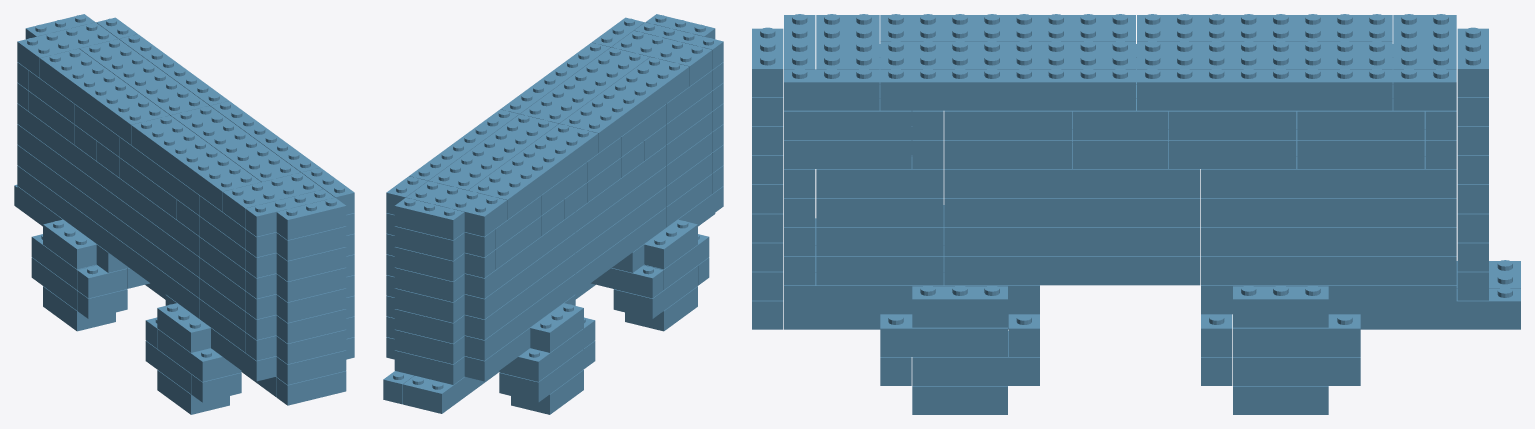
File: 117_bus_L2.glb
3 renders of one model, left to right at view 1: azimuth 30°, elevation 25°; view 2: azimuth 150°, elevation 25°; view 3: azimuth 270°, elevation 25°, orthographic. The views are drawn at different scales.
Bounding box in the file's own units: 6.98 × 11.13 × 23.98.
